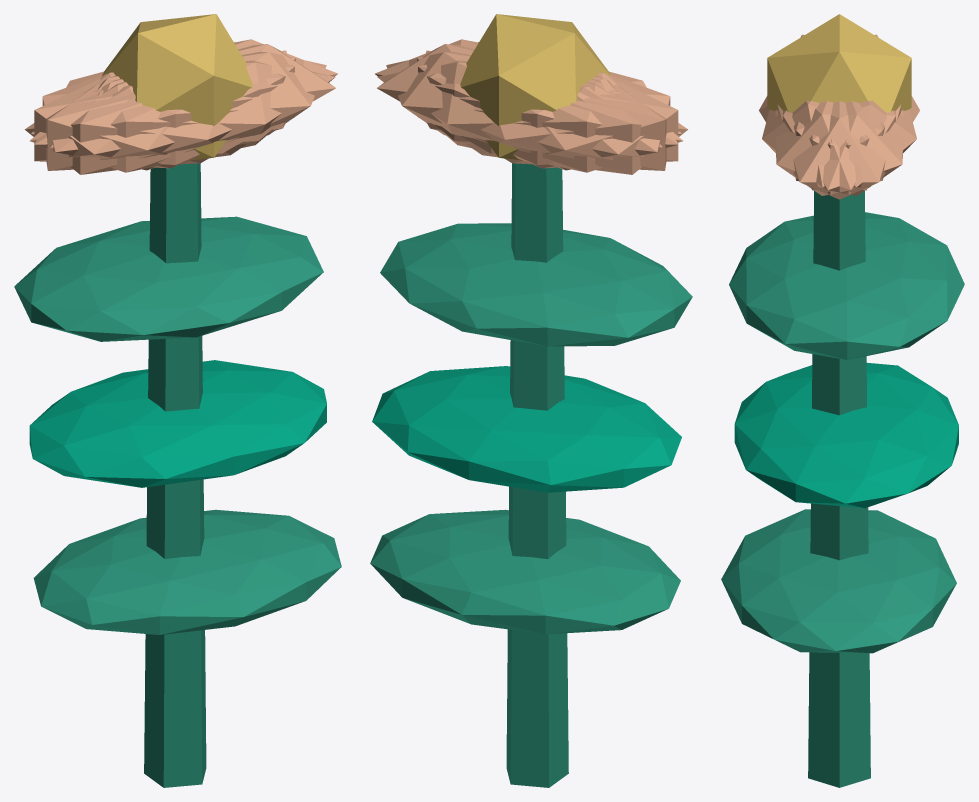
Rendered from malvastrum-coromandelianum.glb.
3 views of the same model, side by side, from view 1: azimuth 30°, elevation 25°; view 2: azimuth 150°, elevation 25°; view 3: azimuth 270°, elevation 25° (orthographic).
Visible parts, largest first — view 1: leaf2, leaf0, leaf1, stem, center, petal1, petal6, petal2, petal5, petal7, petal0, petal4 (+2 smaller); view 2: leaf2, leaf1, leaf0, stem, center, petal8, petal3, petal7, petal4, petal2, petal0, petal5 (+2 smaller); view 3: leaf2, leaf0, leaf1, stem, center, petal0, petal5, petal4, petal1, petal8.
Boxes of the visible parts, <box> form: leaf2: <box>14,216,323,341</box>; leaf0: <box>33,509,341,634</box>; leaf1: <box>29,360,326,487</box>; stem: <box>144,163,206,787</box>; center: <box>102,14,252,160</box>; petal1: <box>30,60,335,172</box>; petal6: <box>25,74,245,174</box>; petal2: <box>46,50,286,170</box>; petal5: <box>50,51,326,164</box>; petal7: <box>34,57,295,168</box>; petal0: <box>101,44,335,154</box>; petal4: <box>31,39,337,144</box>; leaf2: <box>380,223,692,346</box>; leaf1: <box>372,366,681,492</box>; leaf0: <box>370,509,680,634</box>; stem: <box>506,163,568,787</box>; center: <box>460,14,610,160</box>; petal8: <box>377,60,682,172</box>; petal3: <box>466,74,687,174</box>; petal7: <box>426,50,666,170</box>; petal4: <box>386,51,662,164</box>; petal2: <box>417,57,678,168</box>; petal0: <box>377,44,611,154</box>; petal5: <box>375,39,681,144</box>; leaf2: <box>729,212,964,359</box>; leaf0: <box>721,509,956,653</box>; leaf1: <box>734,362,958,508</box>; stem: <box>808,191,870,787</box>; center: <box>767,14,911,112</box>; petal0: <box>777,101,901,199</box>; petal5: <box>775,101,895,195</box>; petal4: <box>783,101,903,195</box>; petal1: <box>762,100,885,187</box>; petal8: <box>793,100,916,187</box>.
Size of the model in its own units: 0.1452 by 0.3465 by 0.1033.
